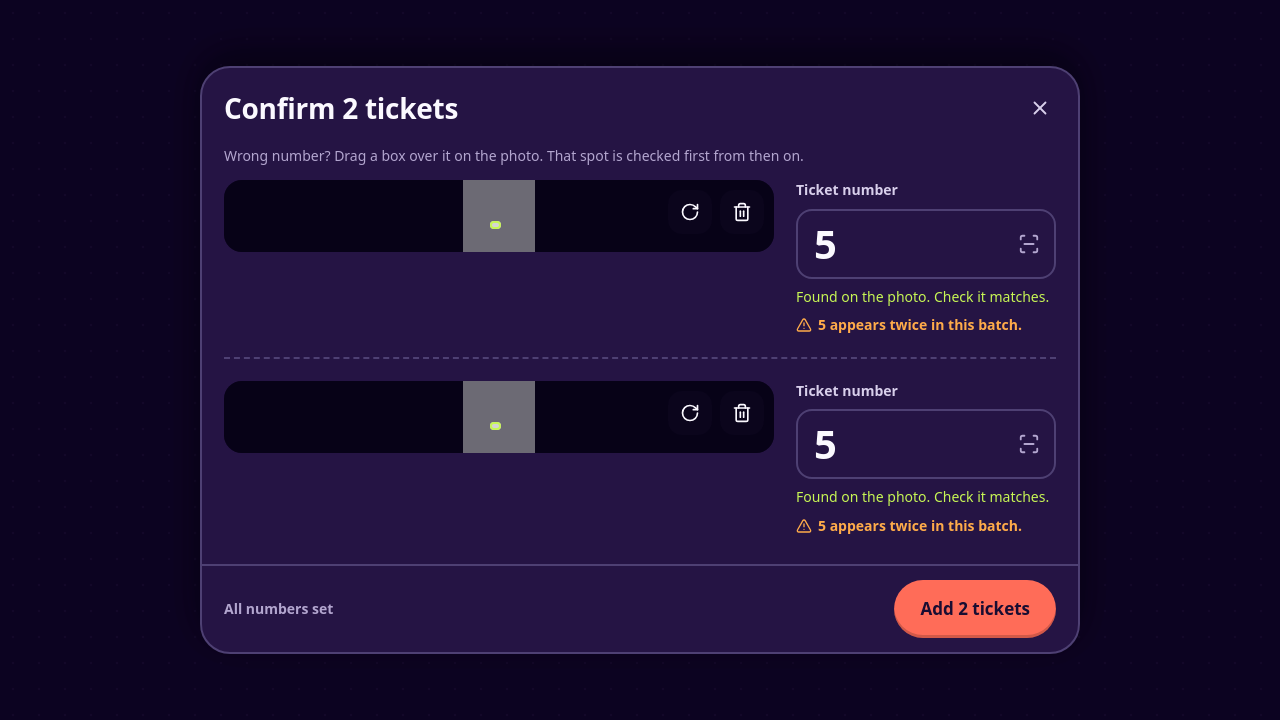
Test: ReviewSheet › warns about numbers already saved or repeated in the batch
Expected: the text "5 appears twice in this batch." is shown 2 times, left=796, top=315, right=1056, bottom=335; left=796, top=516, right=1056, bottom=536
Replace the text in the 1st field labelled "Ticket number" with "361". click: (926, 244)
box: left=796, top=208, right=1056, bottom=278
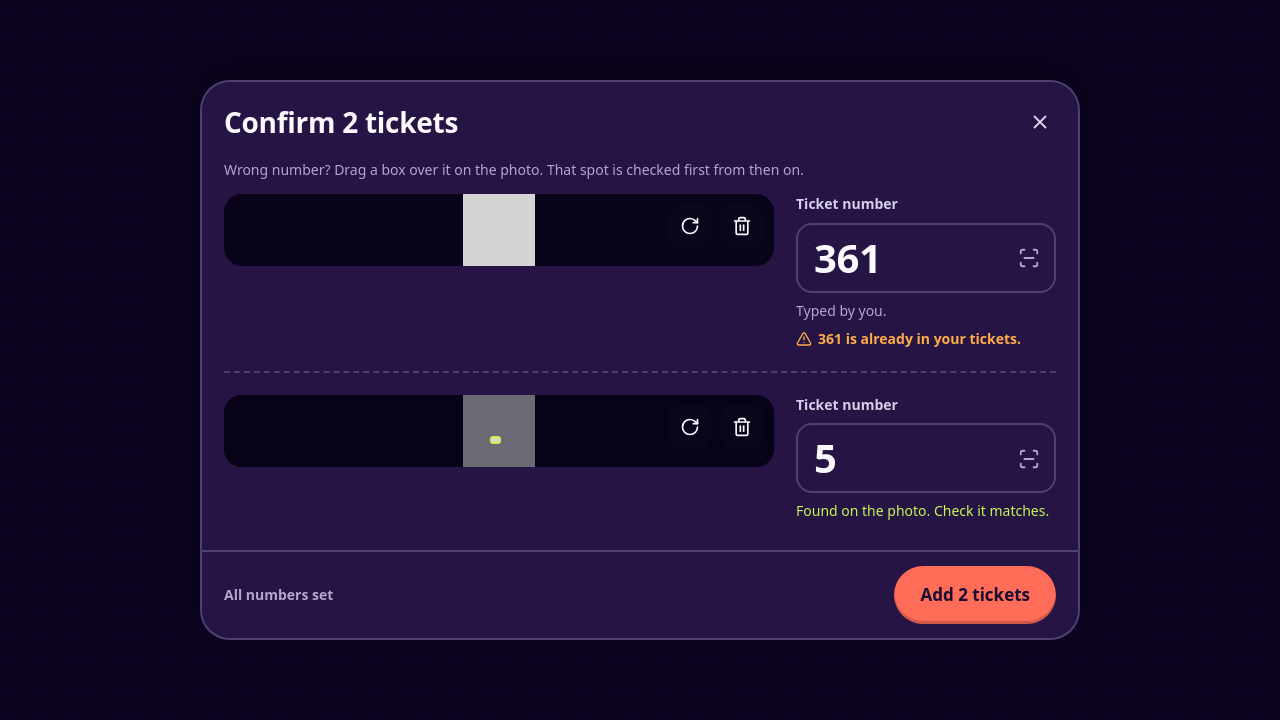
Expected: the text "361 is already in your tickets." is shown, left=796, top=329, right=1056, bottom=349
